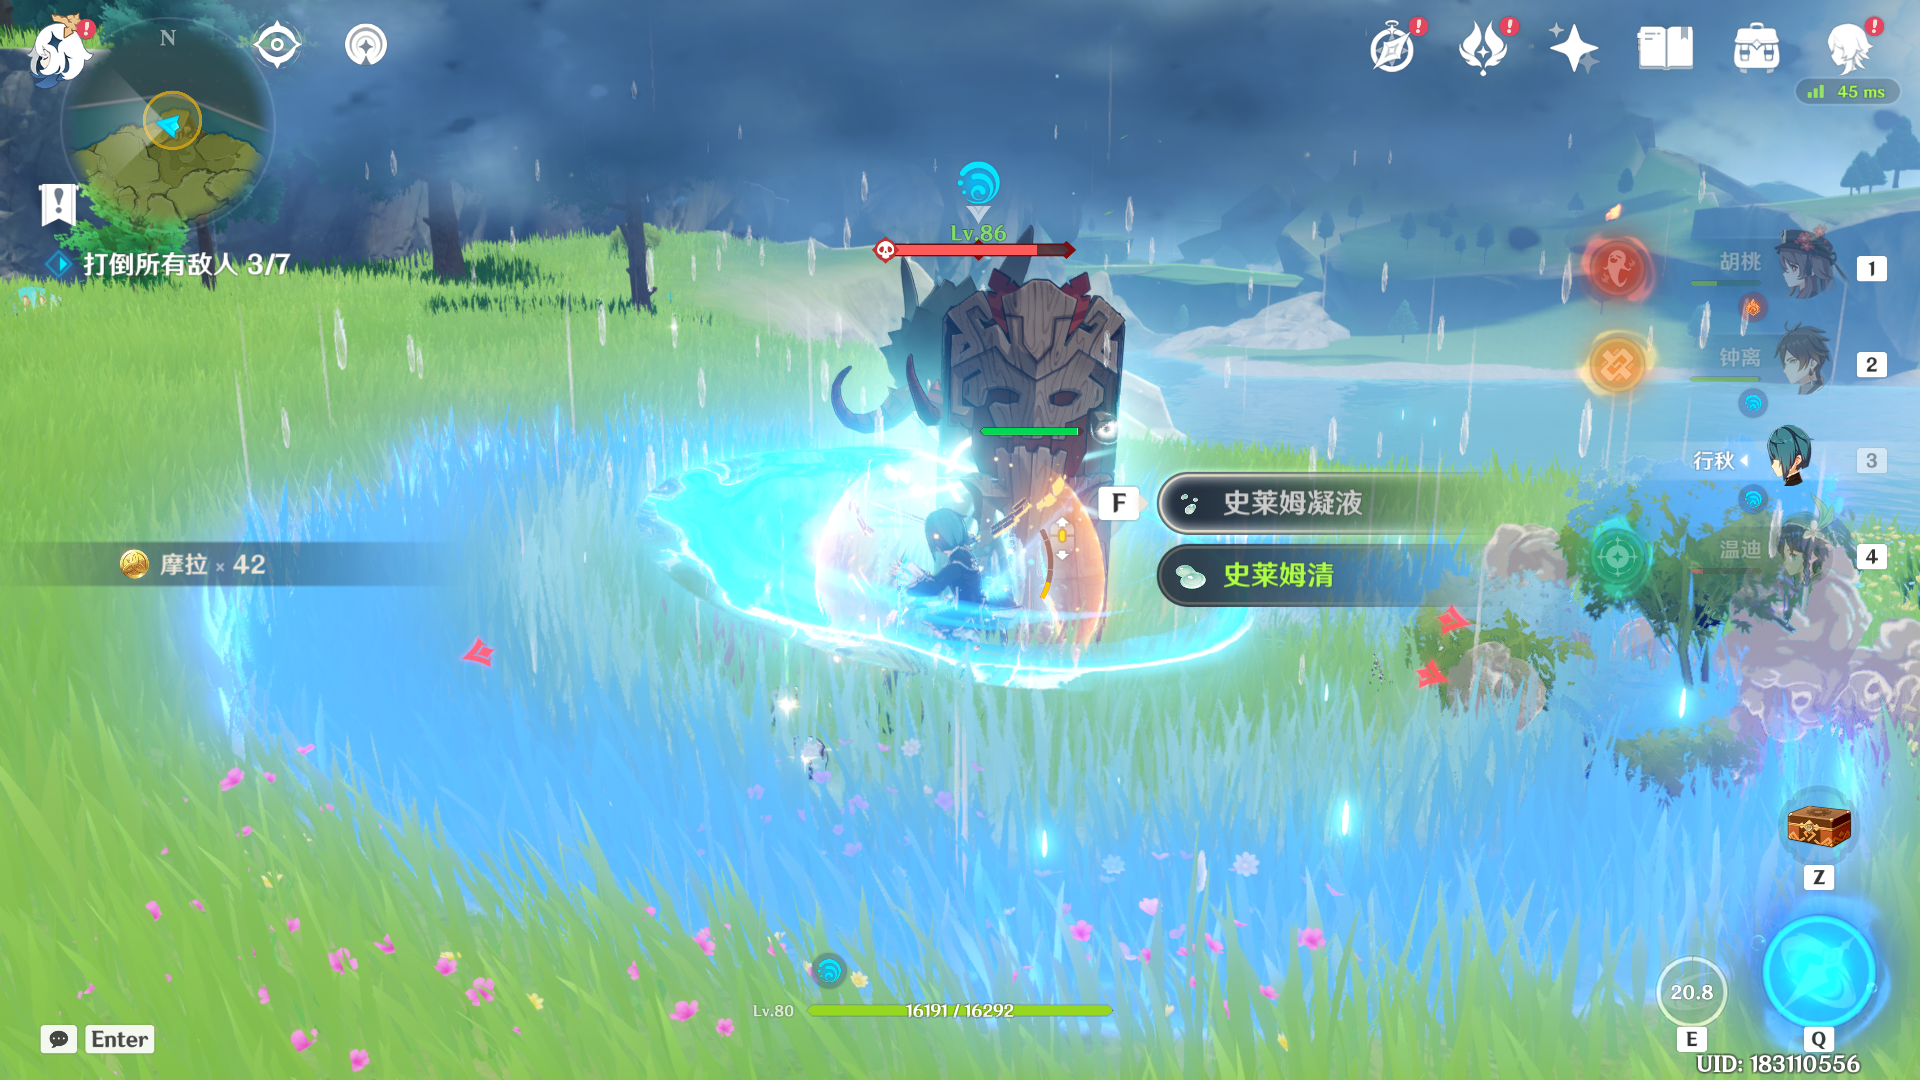bighili: (855, 251, 1137, 634)
character: (855, 471, 1062, 724)
